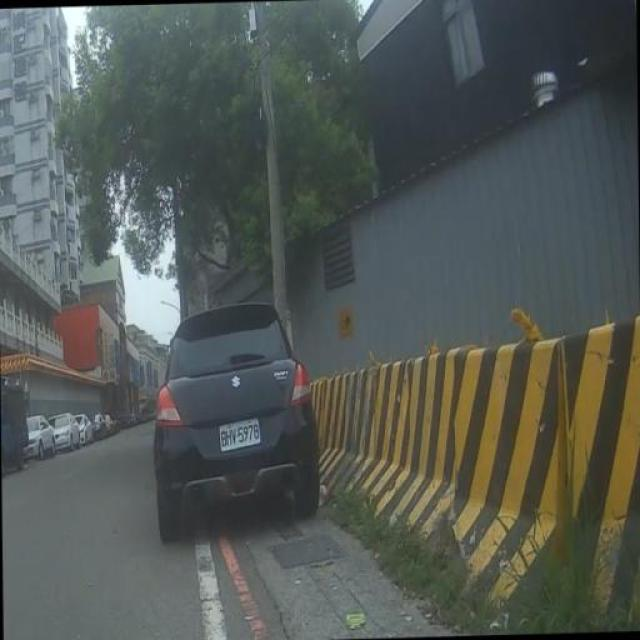Legalparking: (120, 272, 362, 580)
